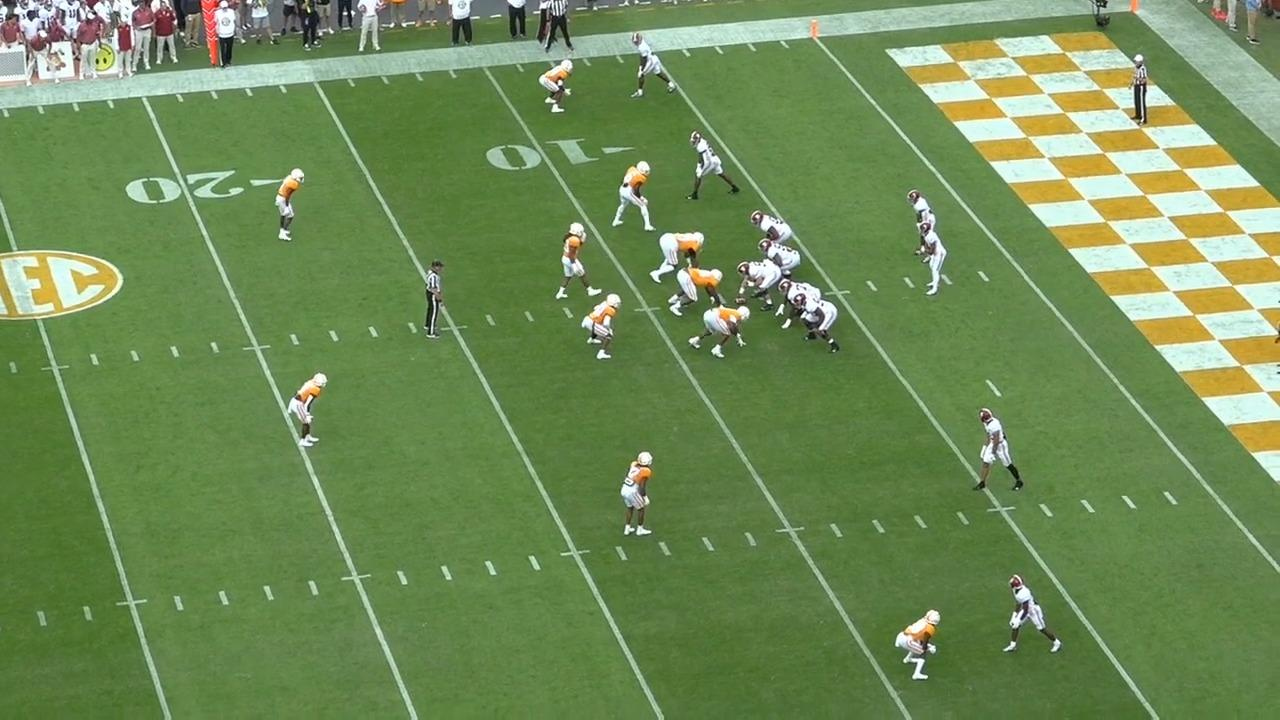player: (1002, 571, 1070, 657), (967, 403, 1024, 495), (685, 129, 740, 204), (556, 218, 604, 301), (896, 608, 944, 687), (627, 33, 679, 103), (691, 307, 756, 363), (289, 372, 330, 456), (616, 448, 653, 541), (616, 158, 660, 234), (645, 228, 705, 283), (671, 268, 731, 319), (795, 292, 845, 353), (584, 291, 625, 365), (736, 261, 787, 315), (274, 165, 308, 245), (916, 220, 951, 297), (779, 278, 824, 332), (902, 189, 931, 264), (543, 56, 579, 115), (755, 238, 801, 281), (751, 210, 796, 250)
ref: (416, 258, 446, 342), (1130, 53, 1154, 130), (545, 0, 579, 51)
